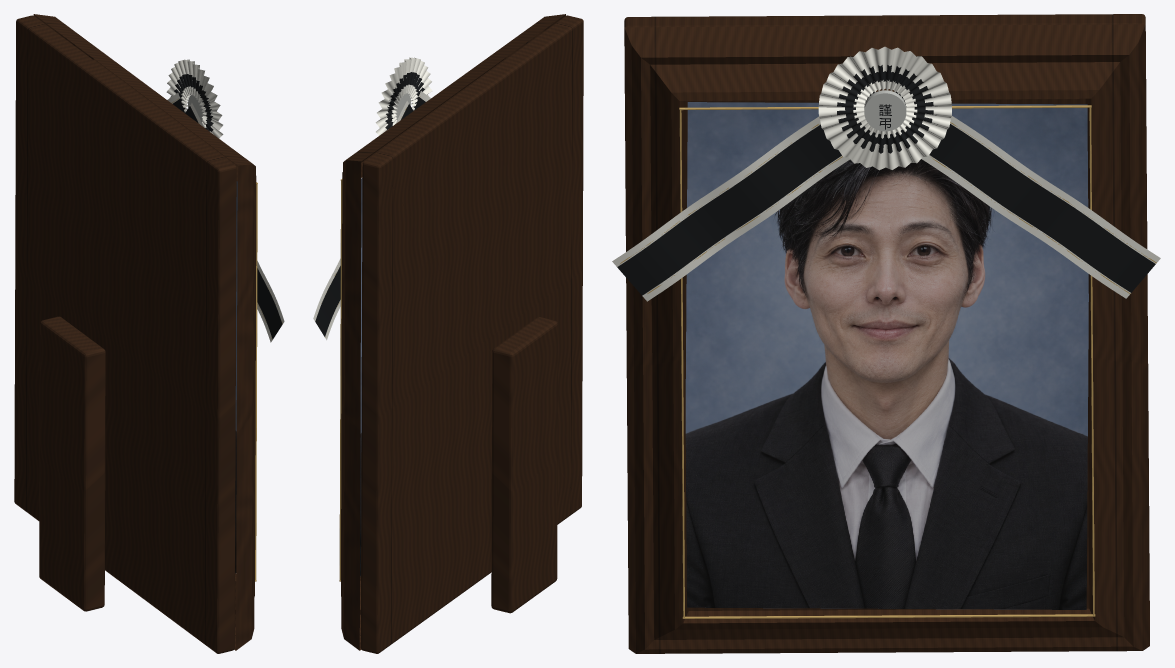
The model's file is Funeral_Portrait_of_Man.fbx.
The picture shows the model from 3 angles, left to right: view 1: azimuth 30°, elevation 25°; view 2: azimuth 150°, elevation 25°; view 3: azimuth 270°, elevation 25°; orthographic projection. The views are drawn at different scales.
Parts seen in each view (by area): view 1: SYNC_03__영정액자_뒷판, SYNC_03__액자_뒷받침, SYNC_03__영정액자_원목몰딩, SYNC_03__영정액자_주름근조장식, SYNC_03__영정액자_검정리본, SYNC_03__액자_금색_안쪽선.001, SYNC_03__PHOTO_REPLACE_사진평면; view 2: SYNC_03__영정액자_뒷판, SYNC_03__액자_뒷받침, SYNC_03__영정액자_원목몰딩, SYNC_03__영정액자_주름근조장식, SYNC_03__영정액자_검정리본, SYNC_03__액자_금색_안쪽선, SYNC_03__PHOTO_REPLACE_사진평면; view 3: SYNC_03__PHOTO_REPLACE_사진평면, SYNC_03__영정액자_원목몰딩, SYNC_03__영정액자_검정리본, SYNC_03__영정액자_주름근조장식, SYNC_03__영정액자_뒷판, SYNC_03__영정액자_근조장식중앙, SYNC_03__액자_금색_안쪽선.002, SYNC_03__액자_금색_안쪽선, SYNC_03__액자_금색_안쪽선.001, SYNC_03__액자_금색_안쪽선.003.
Boxes of the visible parts, left/top/right/bottom form: SYNC_03__영정액자_뒷판: left=14, top=15, right=236, bottom=653; SYNC_03__액자_뒷받침: left=39, top=316, right=105, bottom=611; SYNC_03__영정액자_원목몰딩: left=33, top=14, right=256, bottom=650; SYNC_03__영정액자_주름근조장식: left=166, top=59, right=223, bottom=138; SYNC_03__영정액자_검정리본: left=167, top=93, right=284, bottom=342; SYNC_03__액자_금색_안쪽선.001: left=255, top=184, right=257, bottom=580; SYNC_03__PHOTO_REPLACE_사진평면: left=235, top=181, right=237, bottom=572; SYNC_03__영정액자_뒷판: left=360, top=15, right=583, bottom=653; SYNC_03__액자_뒷받침: left=491, top=317, right=557, bottom=613; SYNC_03__영정액자_원목몰딩: left=341, top=14, right=565, bottom=650; SYNC_03__영정액자_주름근조장식: left=375, top=57, right=432, bottom=135; SYNC_03__영정액자_검정리본: left=313, top=91, right=430, bottom=340; SYNC_03__액자_금색_안쪽선: left=339, top=181, right=342, bottom=580; SYNC_03__PHOTO_REPLACE_사진평면: left=360, top=178, right=362, bottom=576; SYNC_03__PHOTO_REPLACE_사진평면: left=685, top=102, right=1088, bottom=609; SYNC_03__영정액자_원목몰딩: left=624, top=24, right=1149, bottom=653; SYNC_03__영정액자_검정리본: left=612, top=92, right=1160, bottom=301; SYNC_03__영정액자_주름근조장식: left=818, top=46, right=951, bottom=170; SYNC_03__영정액자_뒷판: left=624, top=14, right=1149, bottom=610; SYNC_03__영정액자_근조장식중앙: left=864, top=90, right=906, bottom=131; SYNC_03__액자_금색_안쪽선.002: left=682, top=614, right=1095, bottom=618; SYNC_03__액자_금색_안쪽선: left=1089, top=107, right=1094, bottom=615; SYNC_03__액자_금색_안쪽선.001: left=679, top=110, right=684, bottom=617; SYNC_03__액자_금색_안쪽선.003: left=679, top=105, right=1091, bottom=110.
Bounding box in the file's own units: 27.13 × 89.75 × 69.65.
Materials: 6 (2 with a texture image).
